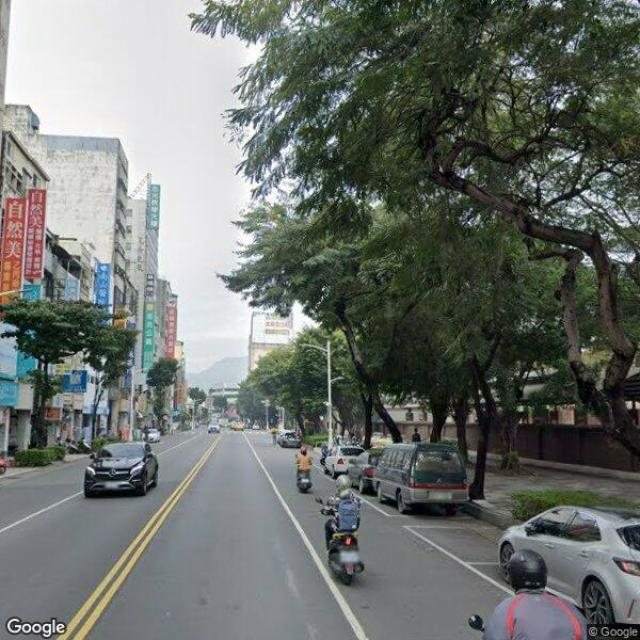Legalparking: (317, 414, 639, 638)
